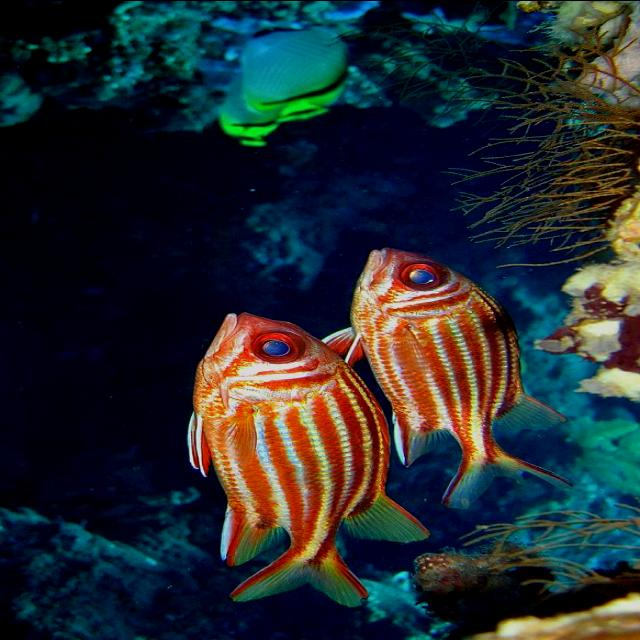Asker Baligi: (174, 304, 450, 618), (343, 223, 588, 507)
